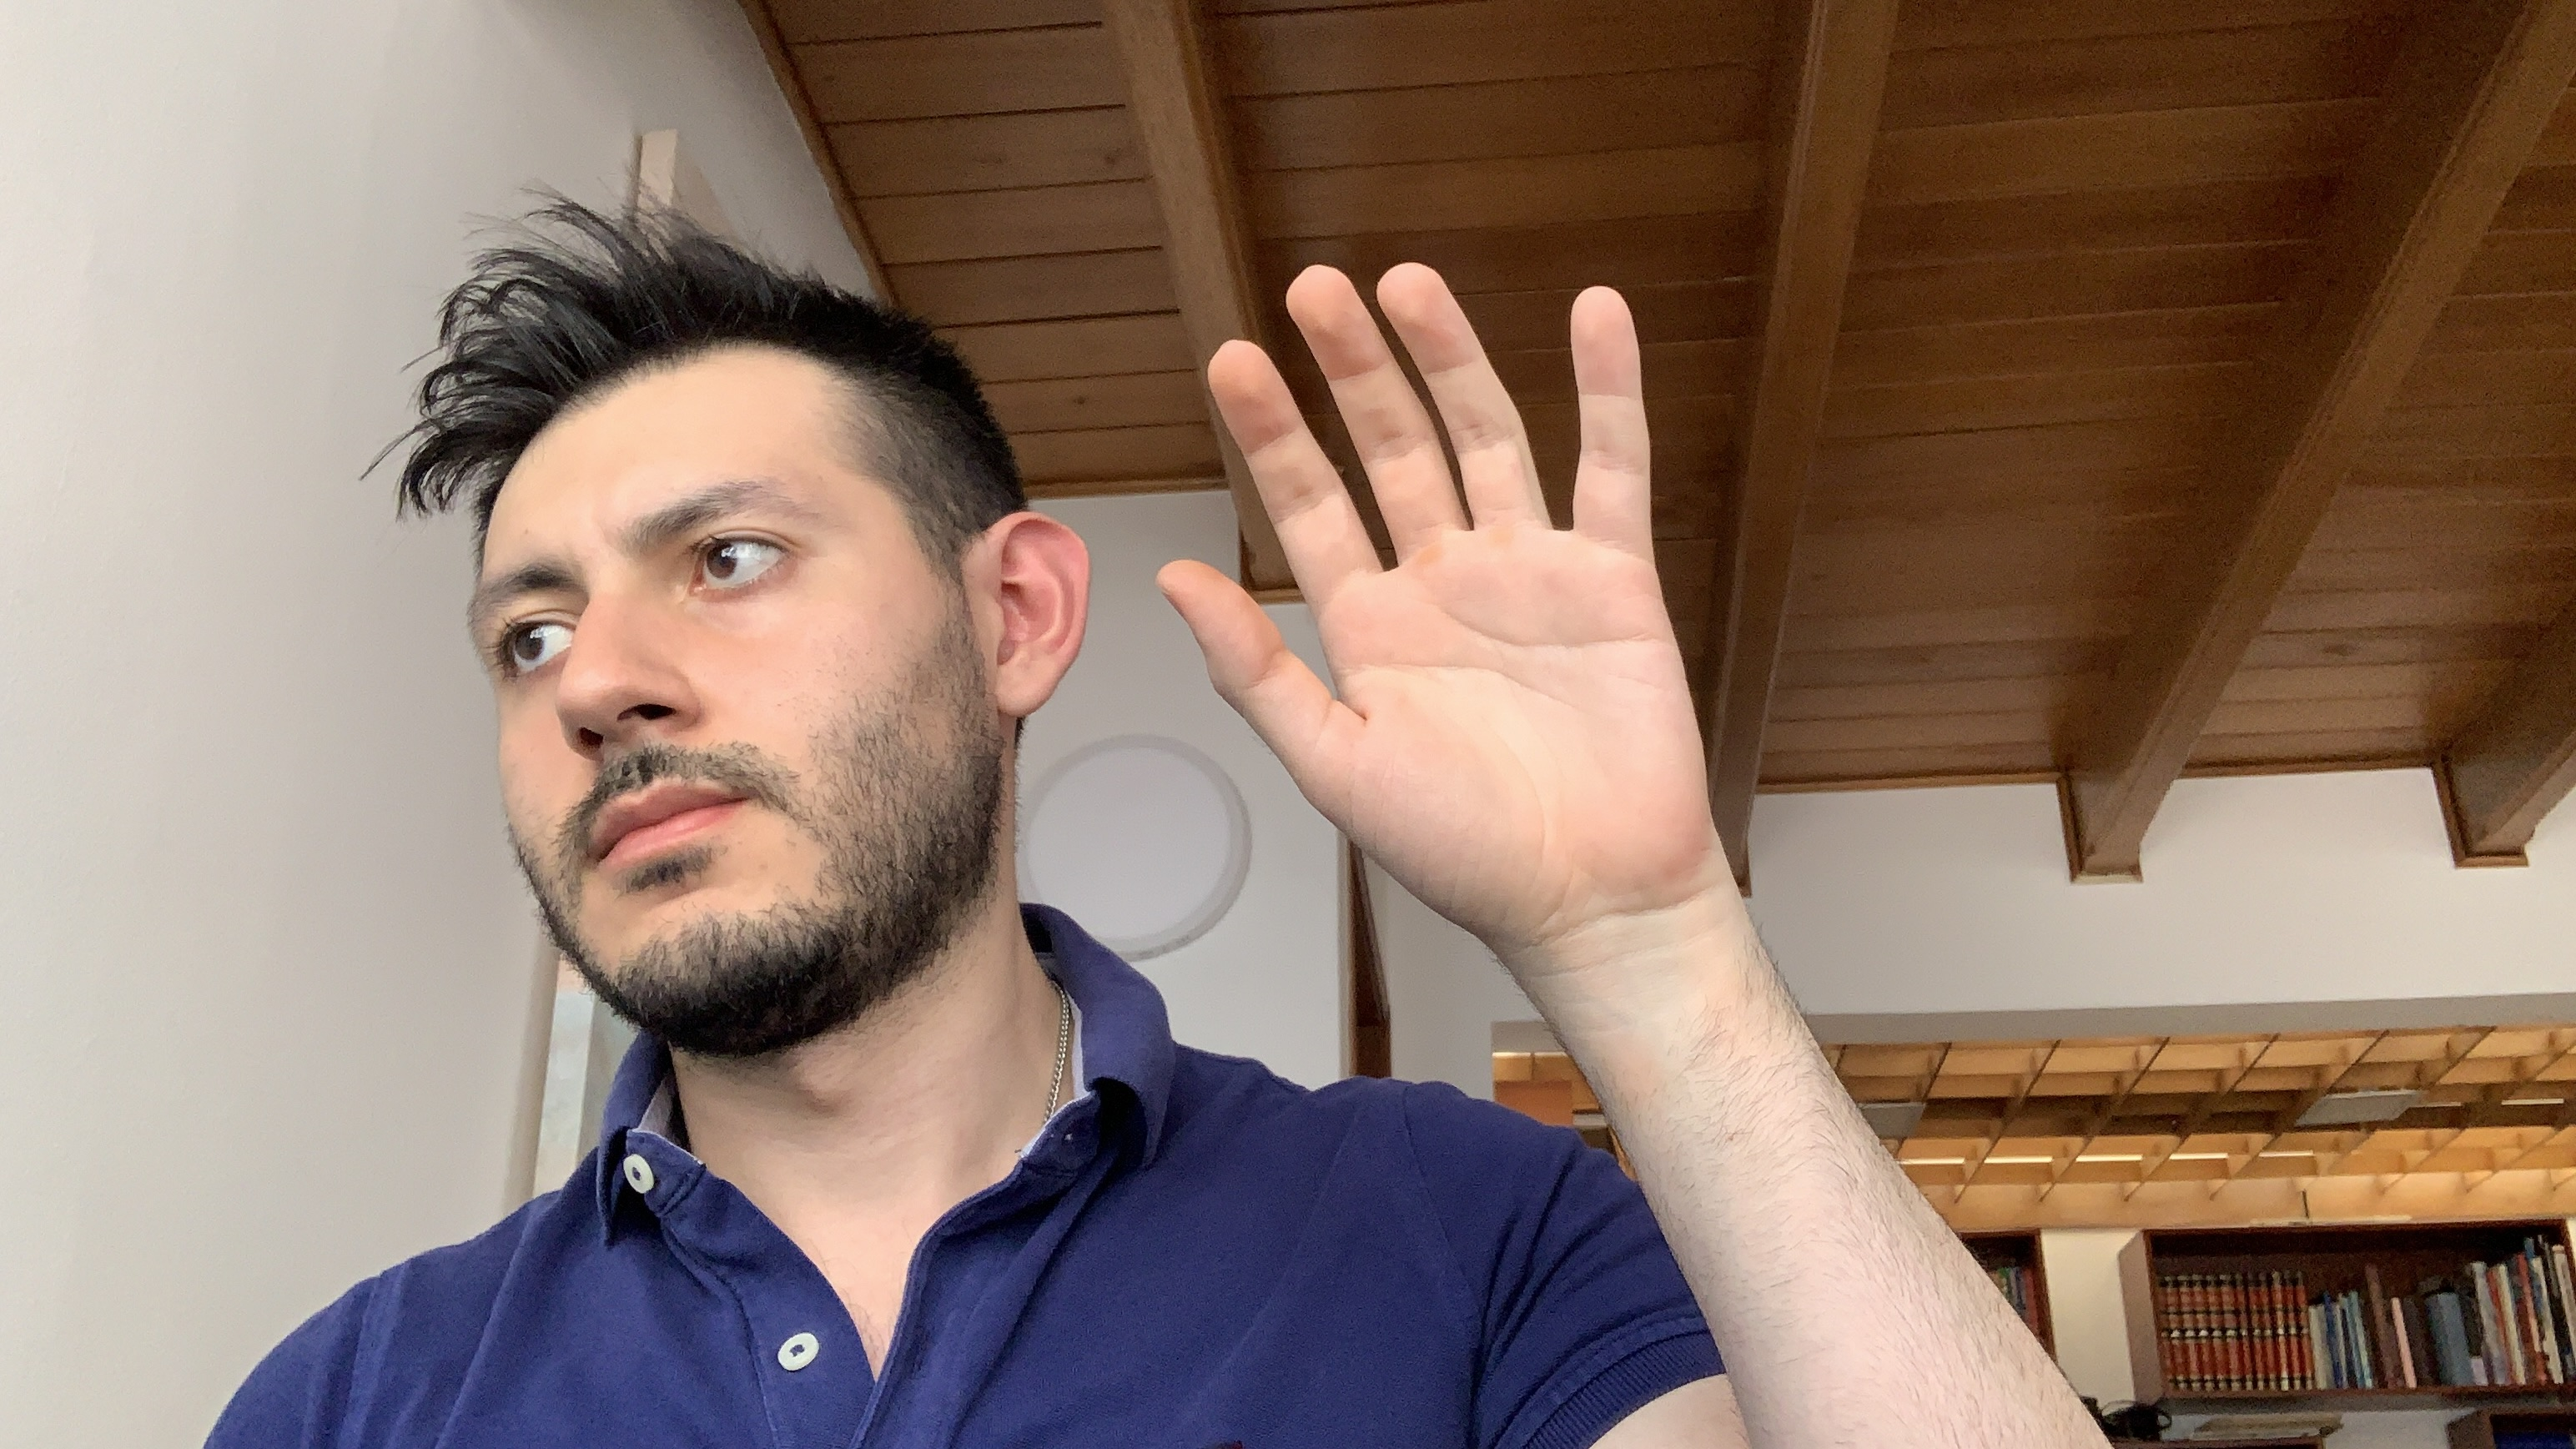Hello: (1145, 237, 1764, 943)
